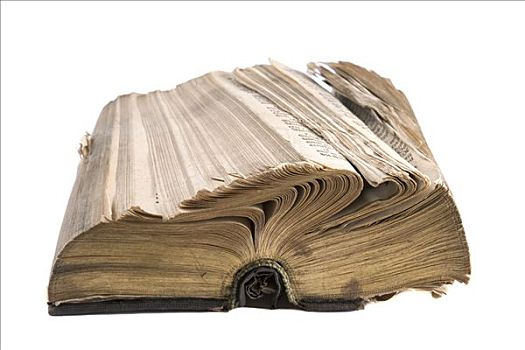book: (43, 60, 479, 314)
